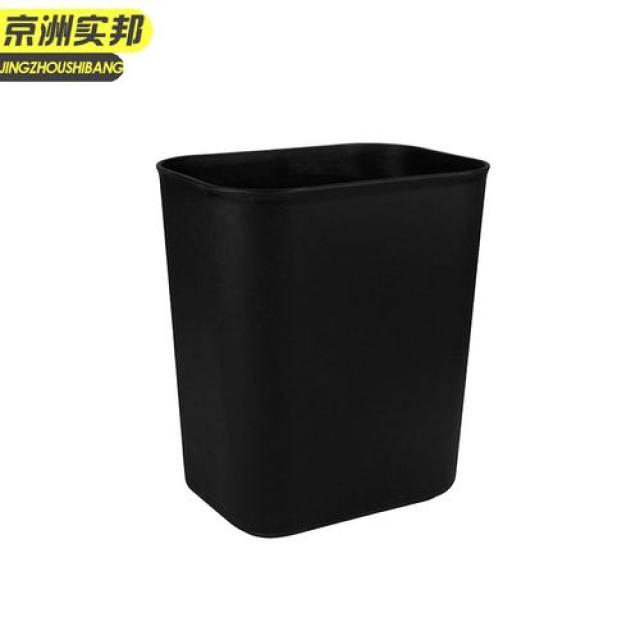dustbin: (155, 139, 490, 543)
